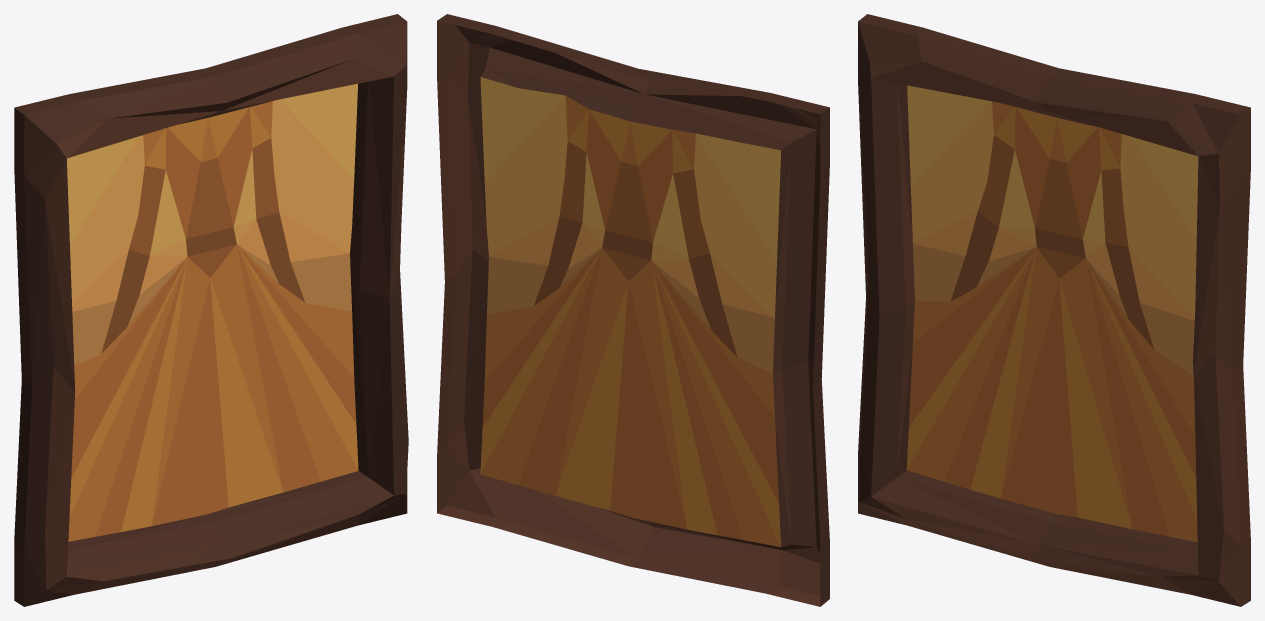
The model's file is painting_small_dress.fbx.
3 renders of one model, left to right at view 1: azimuth 30°, elevation 25°; view 2: azimuth 150°, elevation 25°; view 3: azimuth 330°, elevation 25°, orthographic.
Parts seen in each view (by area): view 1: painting_small_dress; view 2: painting_small_dress; view 3: painting_small_dress.
Part boxes in pixels (x1,y1,x2,y2): painting_small_dress: [14, 14, 408, 606]; painting_small_dress: [437, 14, 829, 606]; painting_small_dress: [858, 14, 1250, 606].
Bounding box in the file's own units: 66.98 × 83.31 × 7.75.
